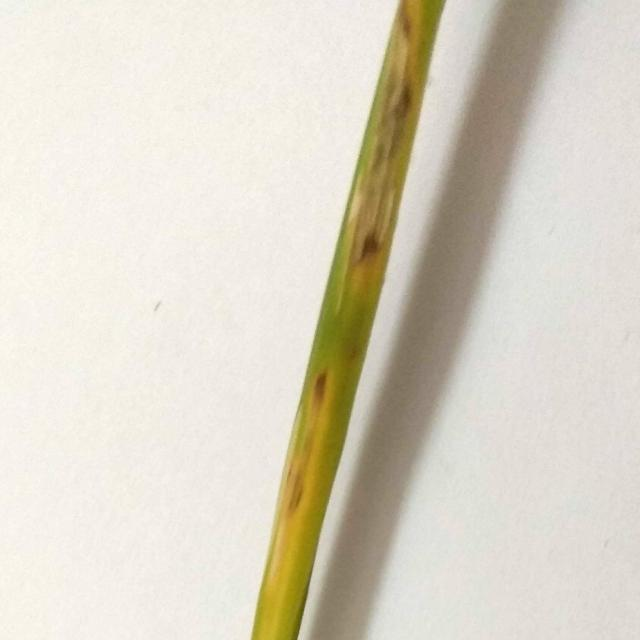Brown spot: (322, 0, 442, 322), (285, 434, 316, 517), (310, 366, 336, 414)
